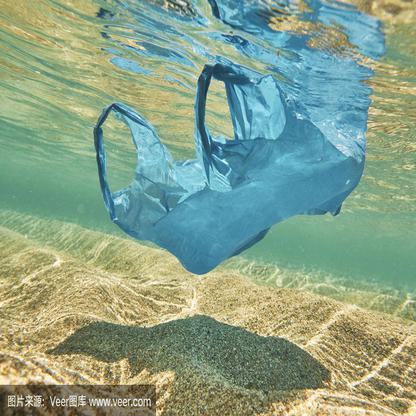plastic bag: (91, 63, 366, 274)
